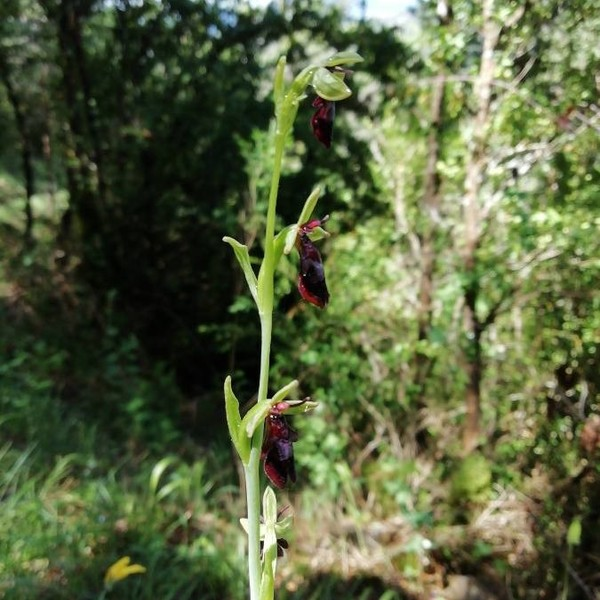obstacle: (196, 55, 369, 552)
